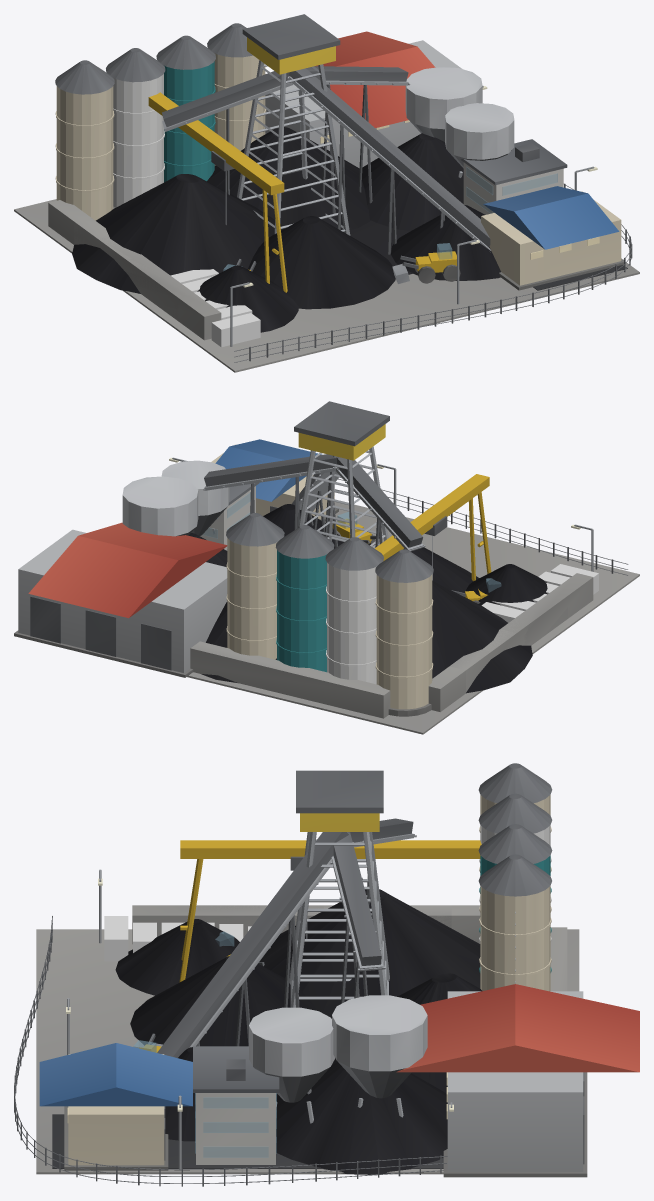
File: Depot_P3.fbx
3 renders of one model, top to bottom at view 1: azimuth 30°, elevation 25°; view 2: azimuth 150°, elevation 25°; view 3: azimuth 270°, elevation 25°, orthographic. The views are drawn at different scales.
Parts seen in each view (by area): view 1: Depot.Yard, Depot.Pile0, Depot.Shed2, Depot.Tower, Depot.Shed1, Depot.Pile3, Depot.Silo0, Depot.Silo1, Depot.Pile1, Depot.ConvMain, Depot.Walls, Depot.Silo2 (+13 smaller); view 2: Depot.Shed1, Depot.Walls, Depot.Yard, Depot.Silo0, Depot.Silo3, Depot.Silo2, Depot.Silo1, Depot.Tower, Depot.Pile0, Depot.Hopper, Depot.Shed2, Depot.Gantry (+12 smaller); view 3: Depot.Shed1, Depot.Yard, Depot.Shed2, Depot.Pile2, Depot.Pile0, Depot.Tower, Depot.Office, Depot.Silo3, Depot.ConvMain, Depot.Hopper, Depot.Pile3, Depot.Hopper2 (+12 smaller).
Part boxes in pixels (bbox=[...]): Depot.Yard: bbox=[14, 199, 639, 372]; Depot.Pile0: bbox=[72, 174, 284, 293]; Depot.Shed2: bbox=[481, 186, 623, 290]; Depot.Tower: bbox=[237, 14, 350, 235]; Depot.Shed1: bbox=[265, 31, 461, 168]; Depot.Pile3: bbox=[247, 216, 395, 309]; Depot.Silo0: bbox=[55, 60, 115, 220]; Depot.Silo1: bbox=[106, 48, 165, 207]; Depot.Pile1: bbox=[207, 127, 370, 230]; Depot.ConvMain: bbox=[287, 68, 490, 254]; Depot.Walls: bbox=[48, 200, 221, 340]; Depot.Silo2: bbox=[156, 35, 215, 182]; Depot.Shed1: bbox=[14, 522, 227, 677]; Depot.Walls: bbox=[190, 573, 593, 718]; Depot.Yard: bbox=[187, 502, 639, 734]; Depot.Silo0: bbox=[375, 549, 433, 716]; Depot.Silo3: bbox=[226, 513, 284, 659]; Depot.Silo2: bbox=[275, 525, 334, 672]; Depot.Silo1: bbox=[325, 537, 383, 684]; Depot.Tower: bbox=[294, 401, 389, 548]; Depot.Pile0: bbox=[432, 580, 532, 693]; Depot.Hopper: bbox=[122, 476, 198, 536]; Depot.Shed2: bbox=[211, 439, 338, 521]; Depot.Gantry: bbox=[375, 474, 491, 581]; Depot.Shed1: bbox=[396, 984, 639, 1177]; Depot.Yard: bbox=[36, 929, 579, 1174]; Depot.Shed2: bbox=[39, 1043, 192, 1170]; Depot.Pile2: bbox=[276, 1062, 447, 1174]; Depot.Pile0: bbox=[259, 889, 480, 1018]; Depot.Tower: bbox=[289, 770, 389, 1019]; Depot.Office: bbox=[193, 1046, 279, 1164]; Depot.Silo3: bbox=[478, 854, 551, 991]; Depot.ConvMain: bbox=[157, 832, 348, 1057]; Depot.Hopper: bbox=[332, 995, 427, 1117]; Depot.Pile3: bbox=[130, 956, 316, 1046]; Depot.Hopper2: bbox=[249, 1007, 334, 1123].
Size of the model in its own units: 7858 by 3465 by 7842.
